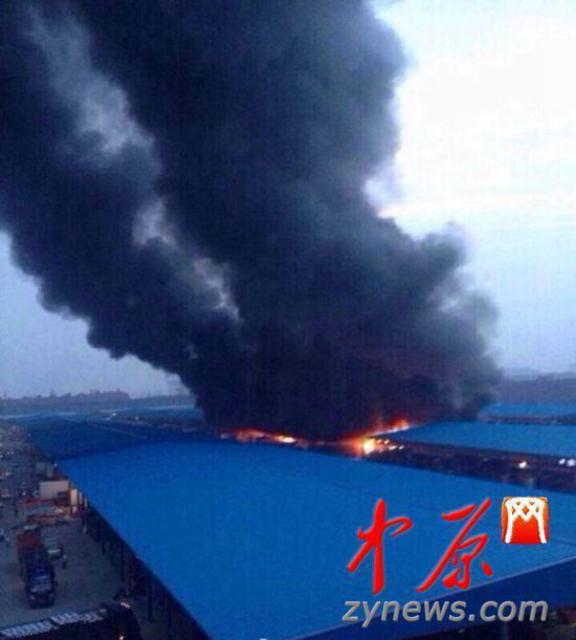fire: (341, 436, 382, 454), (231, 429, 291, 441), (366, 419, 405, 433)
